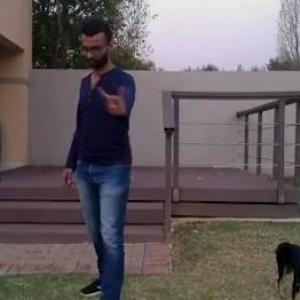takeoff-hand: (99, 79, 130, 117)
